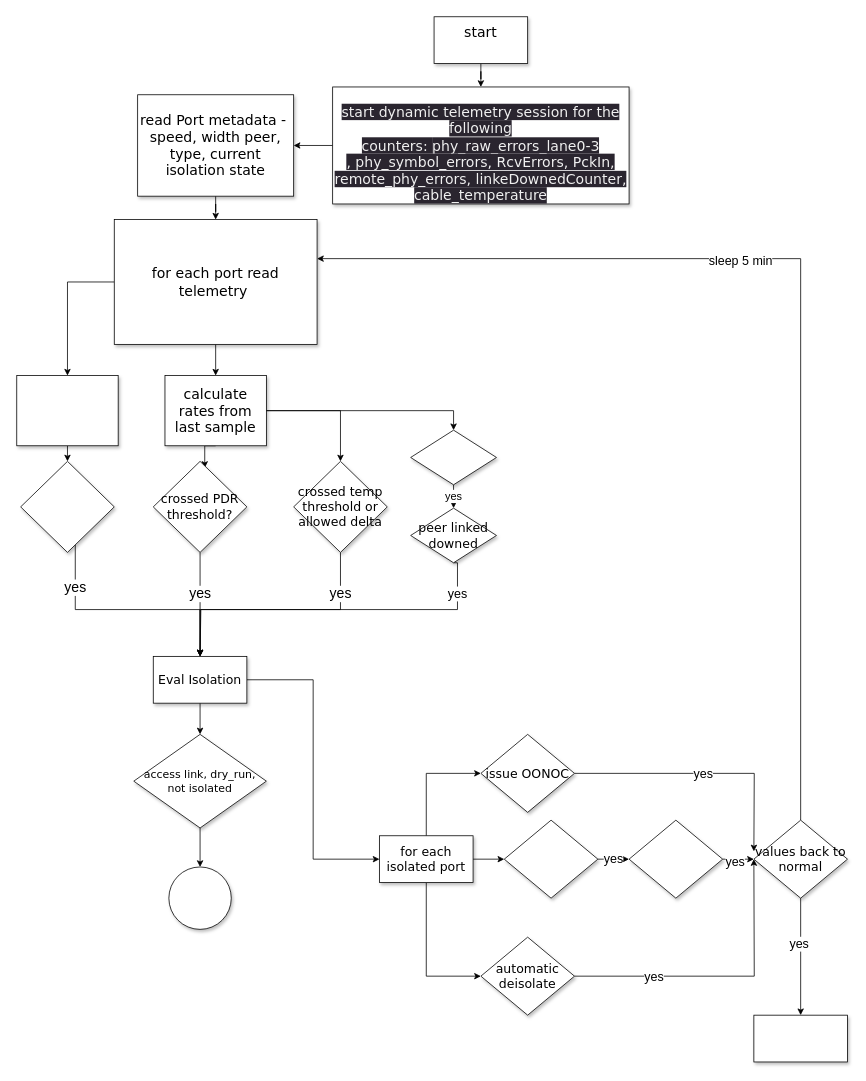
Some shapes in this 866 by 1081 pixel diagram are drawn without their labels. The centre of each missing label's shape, as x and y in pixels:
"calculate BER rates from 12,125 minutes ago" goes at pixel 68 411.
"crossed one BER threshold?" goes at pixel 68 507.
"deisolate" goes at pixel 801 1039.
"issue PDR || BER" goes at pixel 551 860.
"linked downed" goes at pixel 454 458.
"port treated" goes at pixel 676 860.
"send event & isolate" goes at pixel 200 899.
